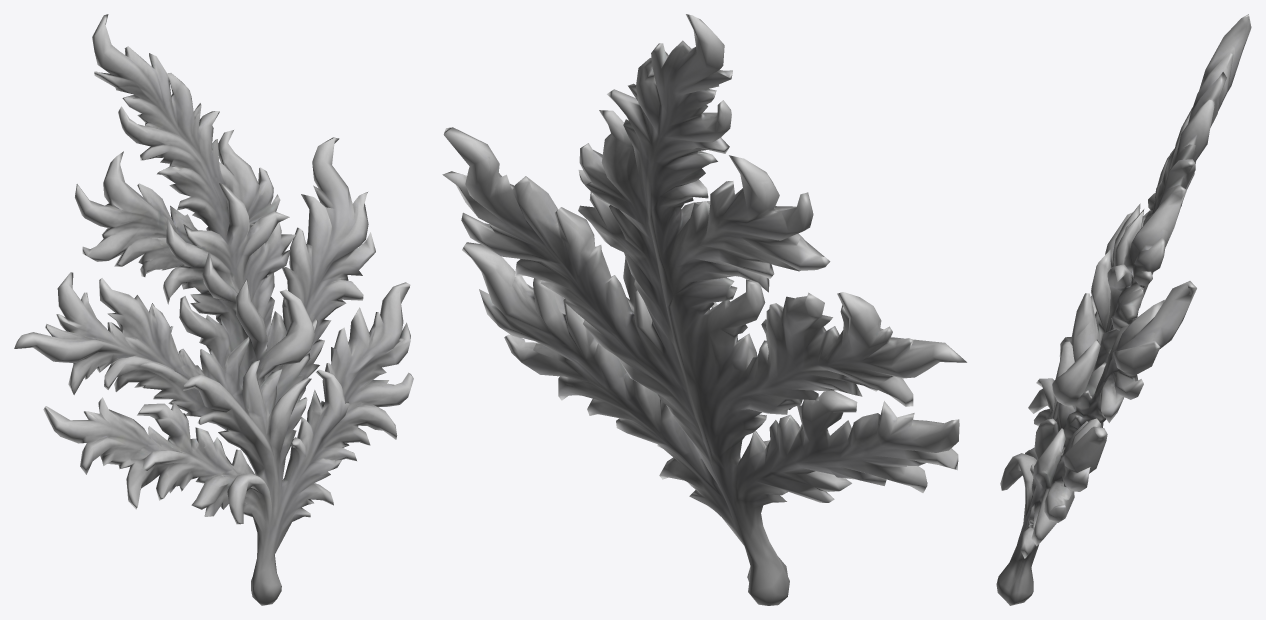
The model's file is gill_base2.glb.
3 renders of one model, left to right at view 1: azimuth 30°, elevation 25°; view 2: azimuth 150°, elevation 25°; view 3: azimuth 270°, elevation 25°, orthographic. The views are drawn at different scales.
Parts seen in each view (by area): view 1: tripo_node_7eca4ea8-d472-4483-8526-190128340323; view 2: tripo_node_7eca4ea8-d472-4483-8526-190128340323; view 3: tripo_node_7eca4ea8-d472-4483-8526-190128340323.
Boxes of the visible parts, left/top/right/bottom form: tripo_node_7eca4ea8-d472-4483-8526-190128340323: left=14, top=14, right=413, bottom=605; tripo_node_7eca4ea8-d472-4483-8526-190128340323: left=442, top=14, right=966, bottom=605; tripo_node_7eca4ea8-d472-4483-8526-190128340323: left=996, top=14, right=1251, bottom=605.
Bounding box in the file's own units: 0.7502 × 0.9788 × 0.4029.
Materials: 1 (1 with a texture image).
